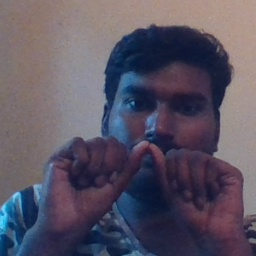A: (71, 128, 222, 238)
